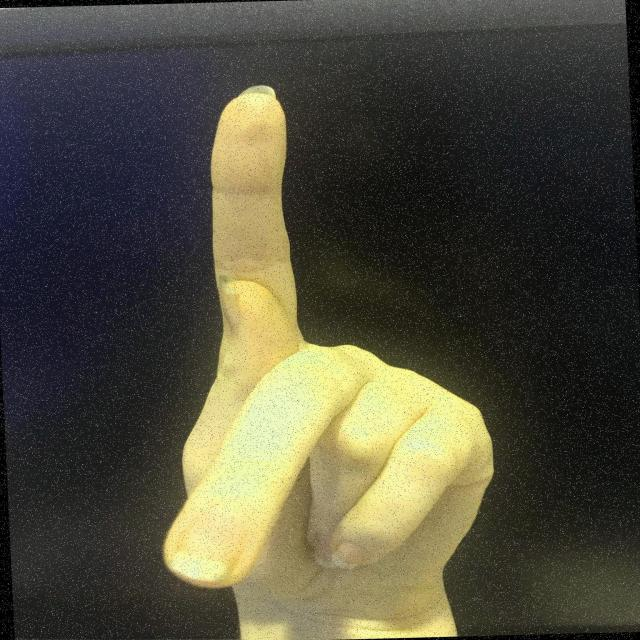P: (136, 75, 509, 596)
